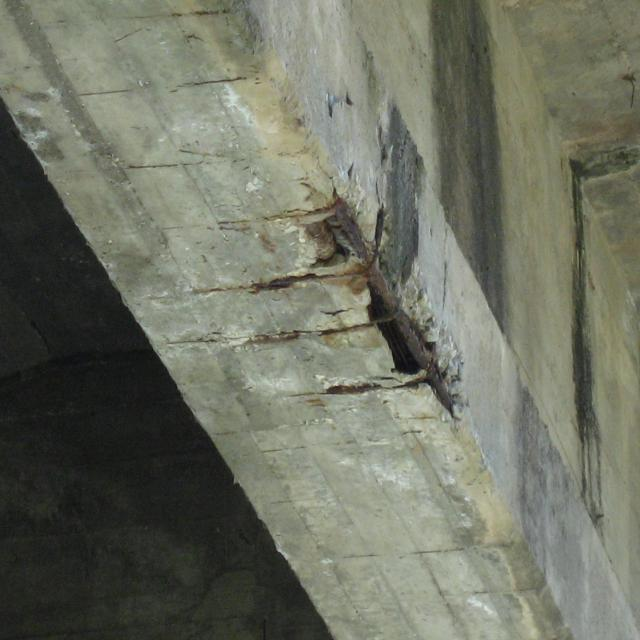corrosion: (195, 176, 448, 438), (619, 68, 639, 116)
